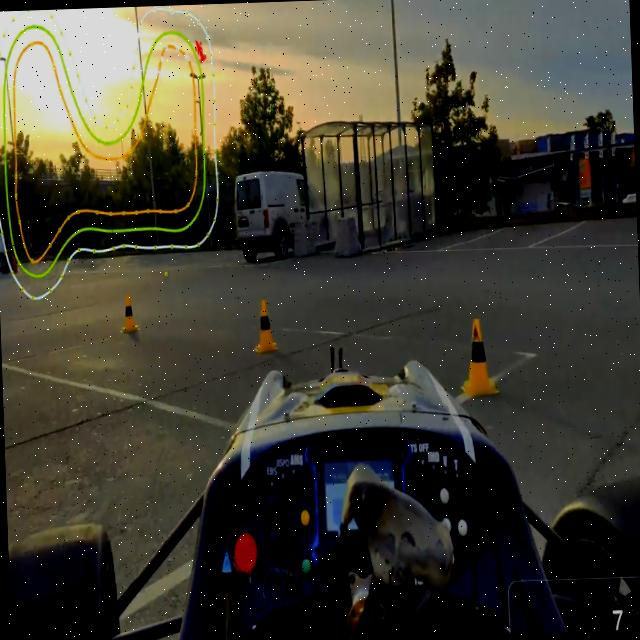yellow_cone: (458, 314, 496, 393), (255, 301, 275, 354), (121, 292, 137, 334)
